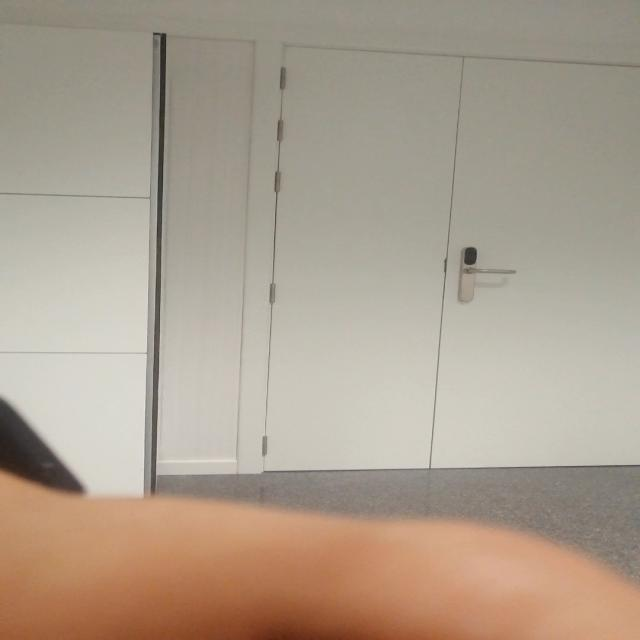door_handle: (461, 266, 523, 278)
